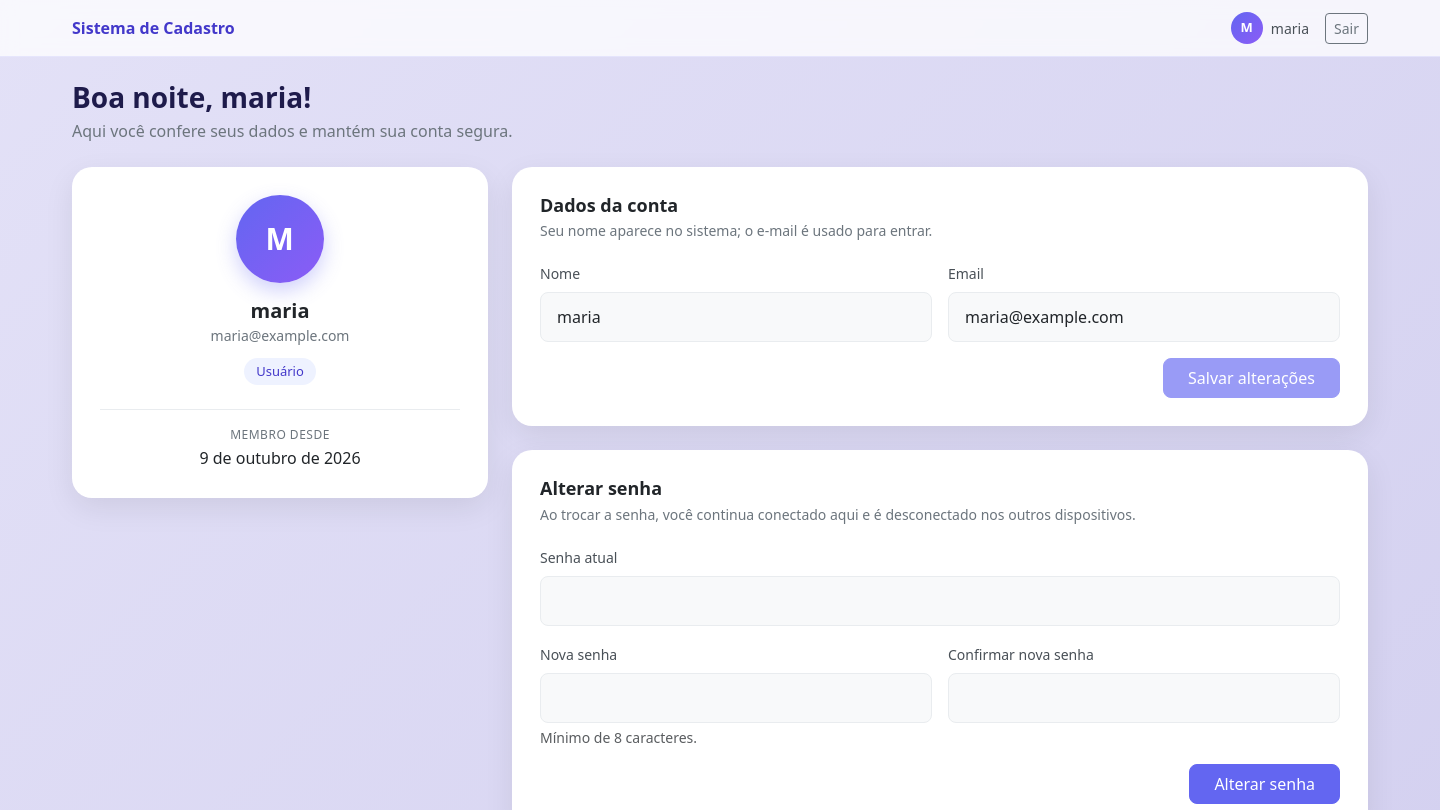
it: guards de rota › logout volta ao login sem aviso de acesso indevido
Click the button "Sair" at (1347, 28), box [1325,12,1368,44]
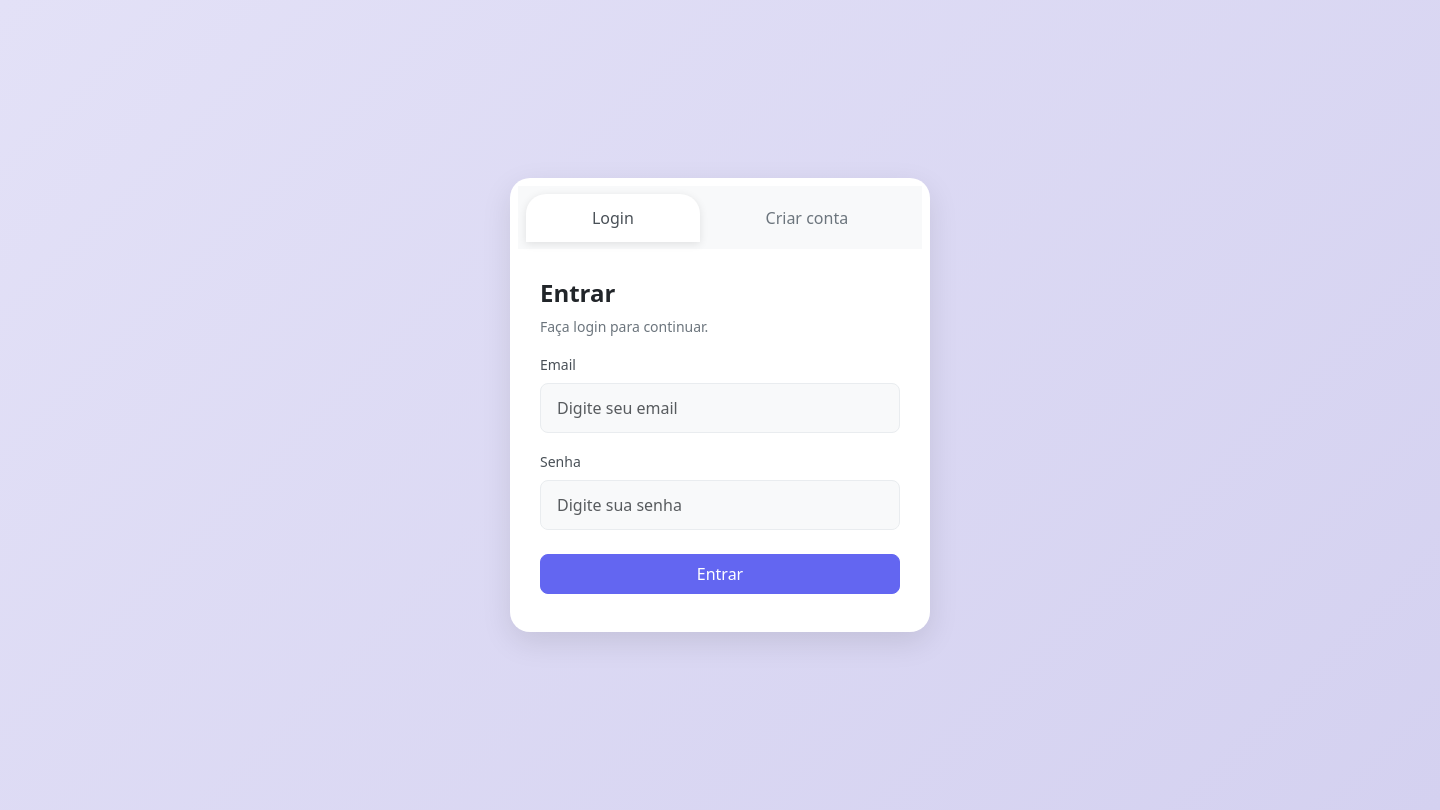
Now the button "Login" is shown, box [526,194,700,242]
